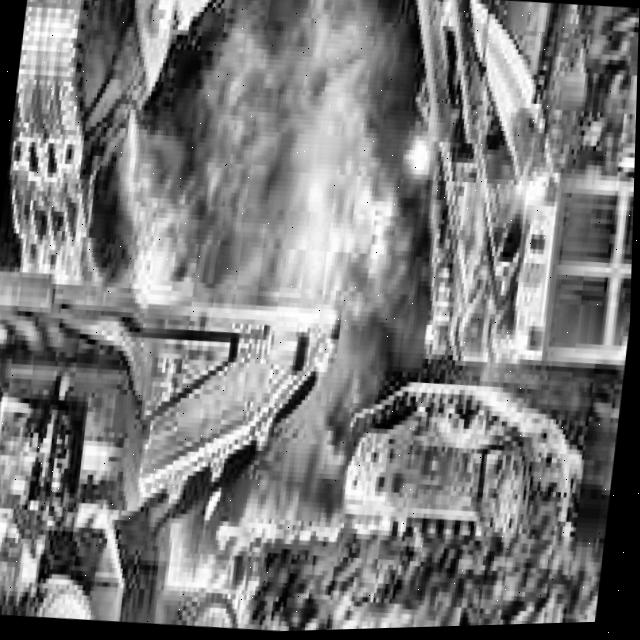dump_truck: (0, 186, 354, 640)
excavator: (0, 0, 640, 537)
